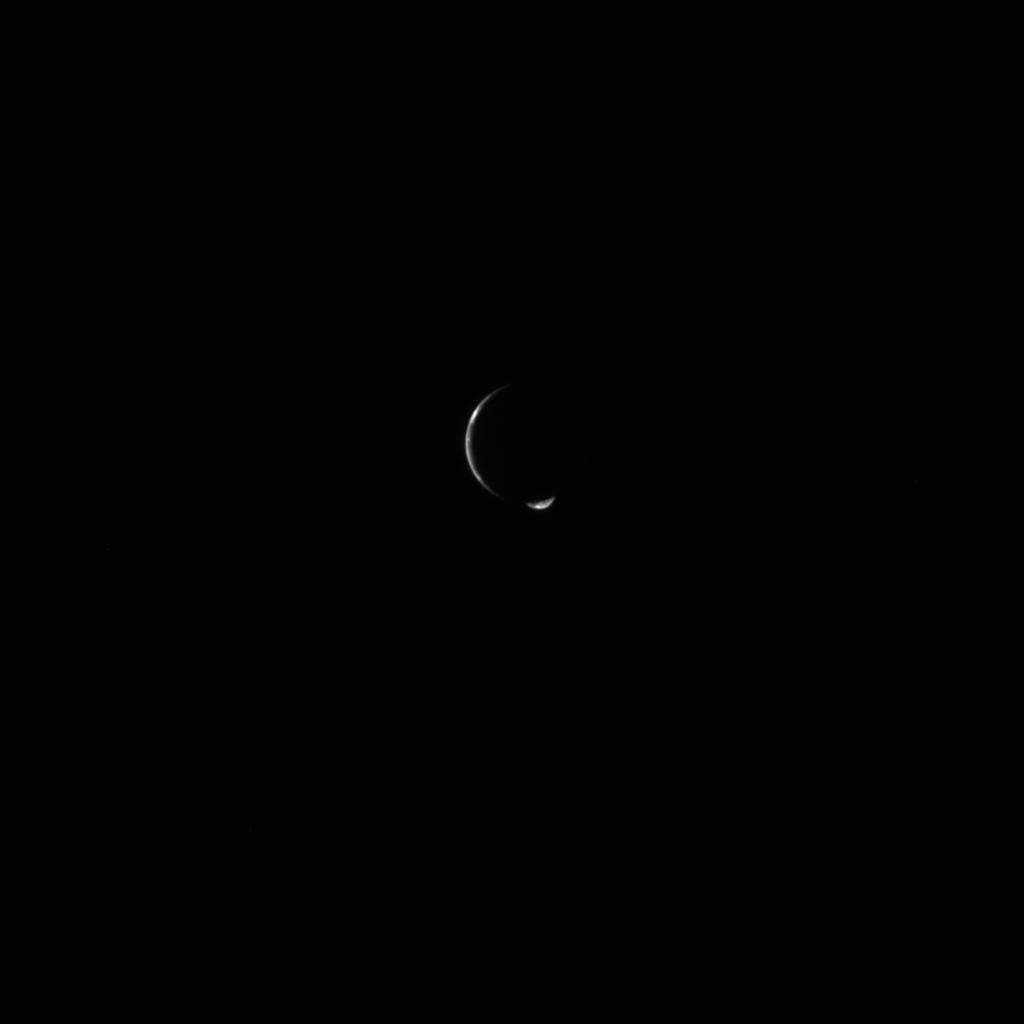plumes: (522, 491, 560, 514)
